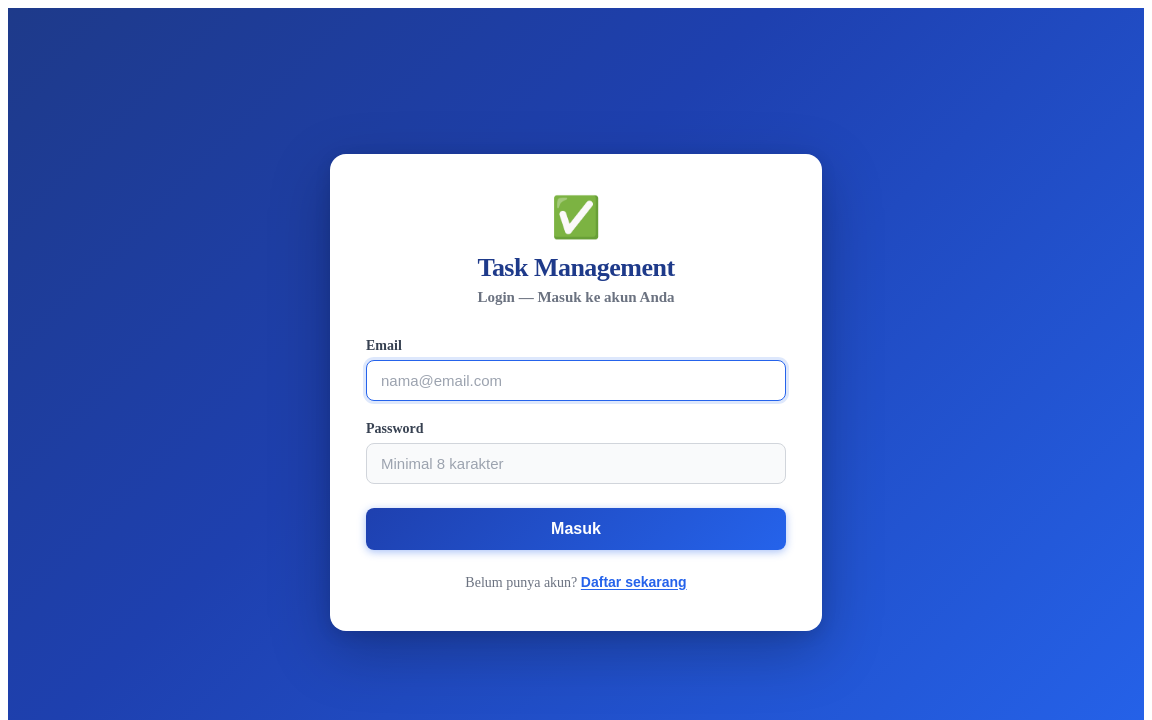
Scenario: LoginForm › error sebelumnya hilang saat submit ulang berhasil
The width and height of the screenshot is (1152, 720).
Type "a@b.com" into the field labelled "Email".
click(576, 380); type("a@b.com")  # box [366,360,786,400]
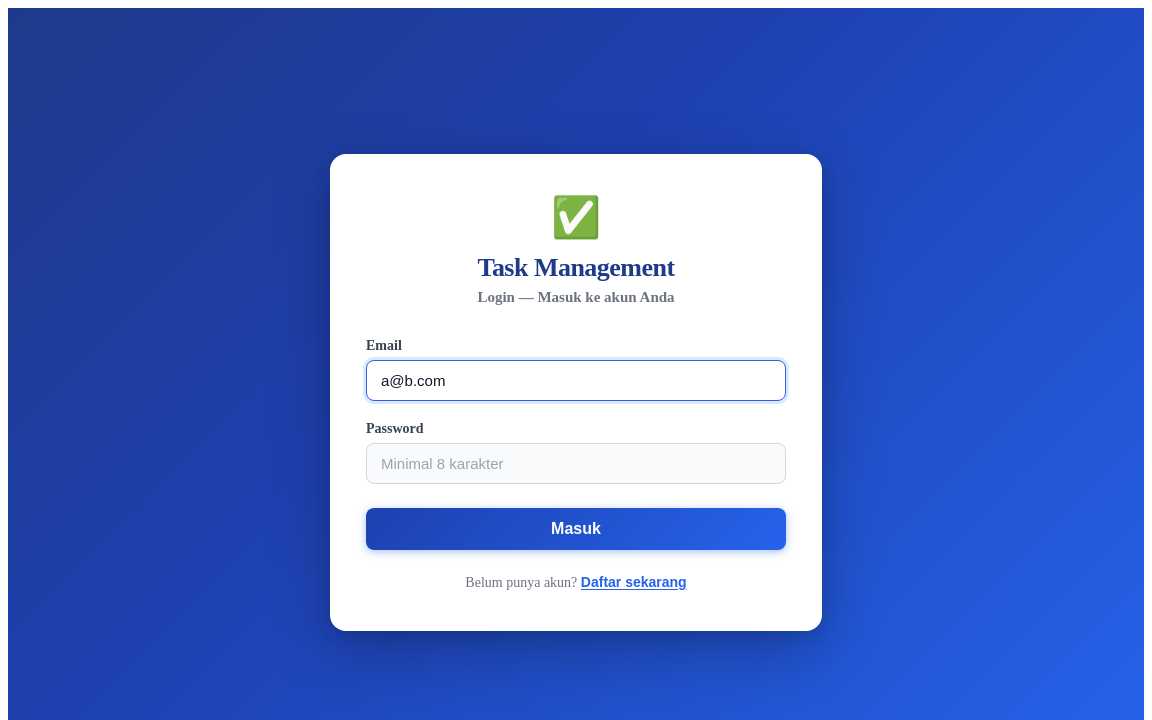
Type "pass1234" into the password field labelled "Password".
click(576, 463); type("pass1234")  # box [366,442,786,484]
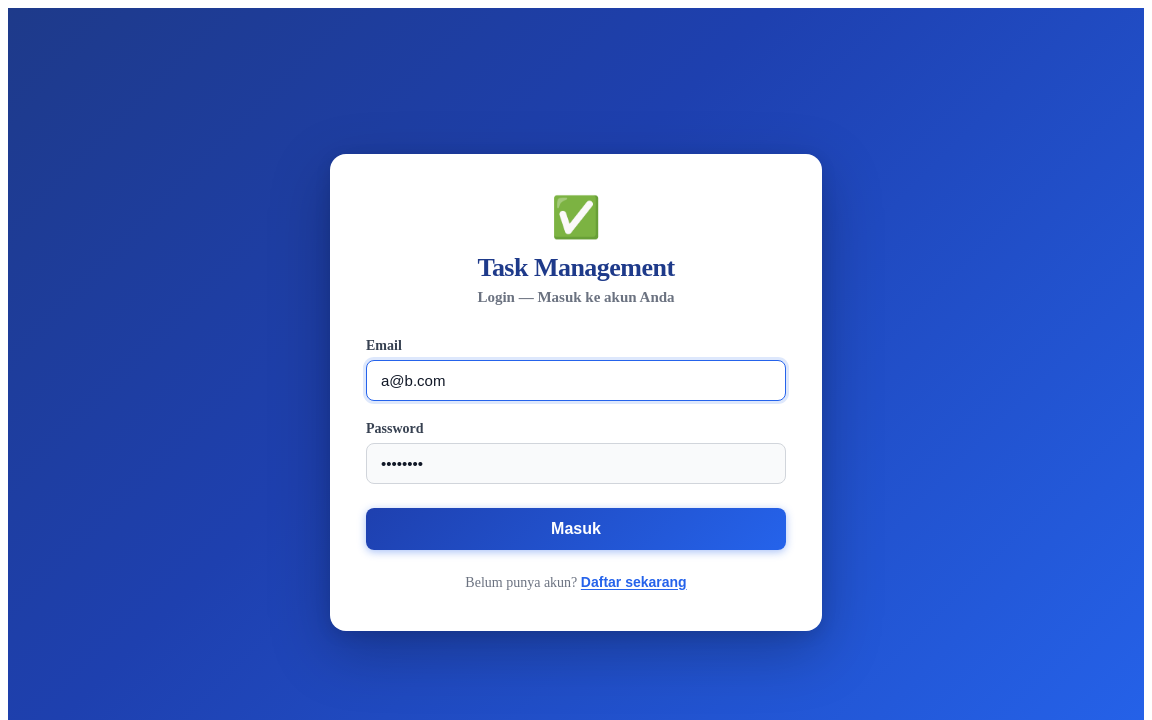
Click the button "Masuk".
click(576, 528)  # box [366,508,786,550]
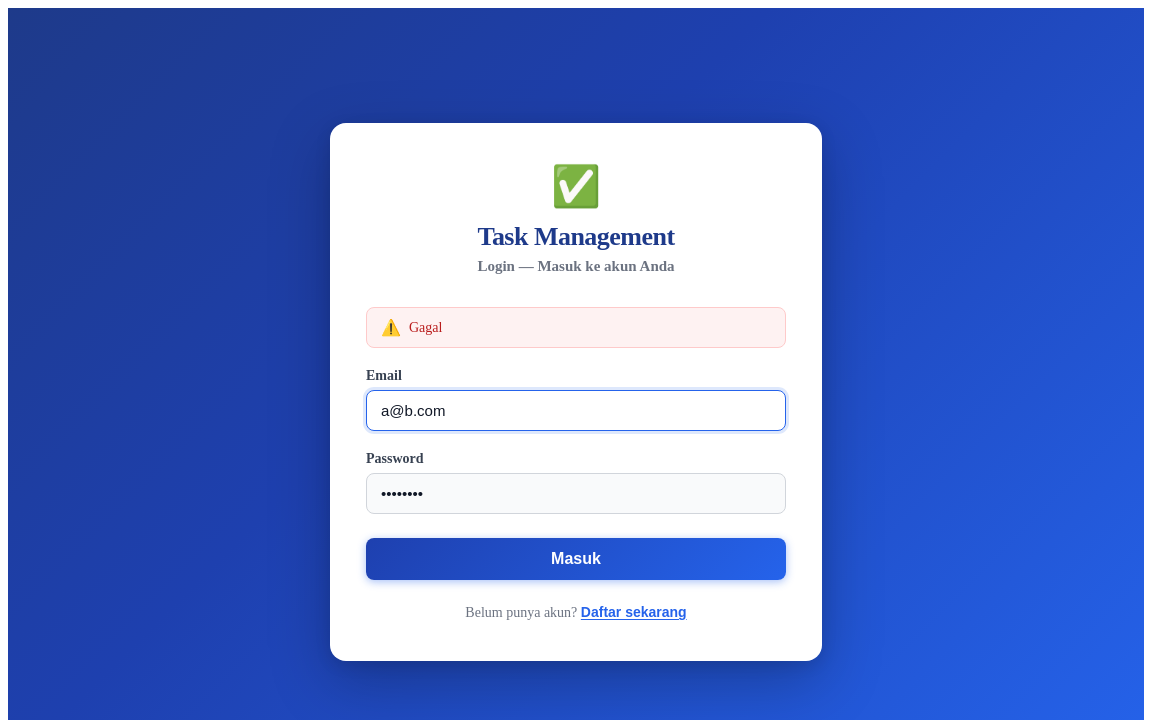
Now the message "⚠️ Gagal" is shown, box [366,307,786,348]
Click the button "Masuk".
click(576, 559)  # box [366,538,786,580]
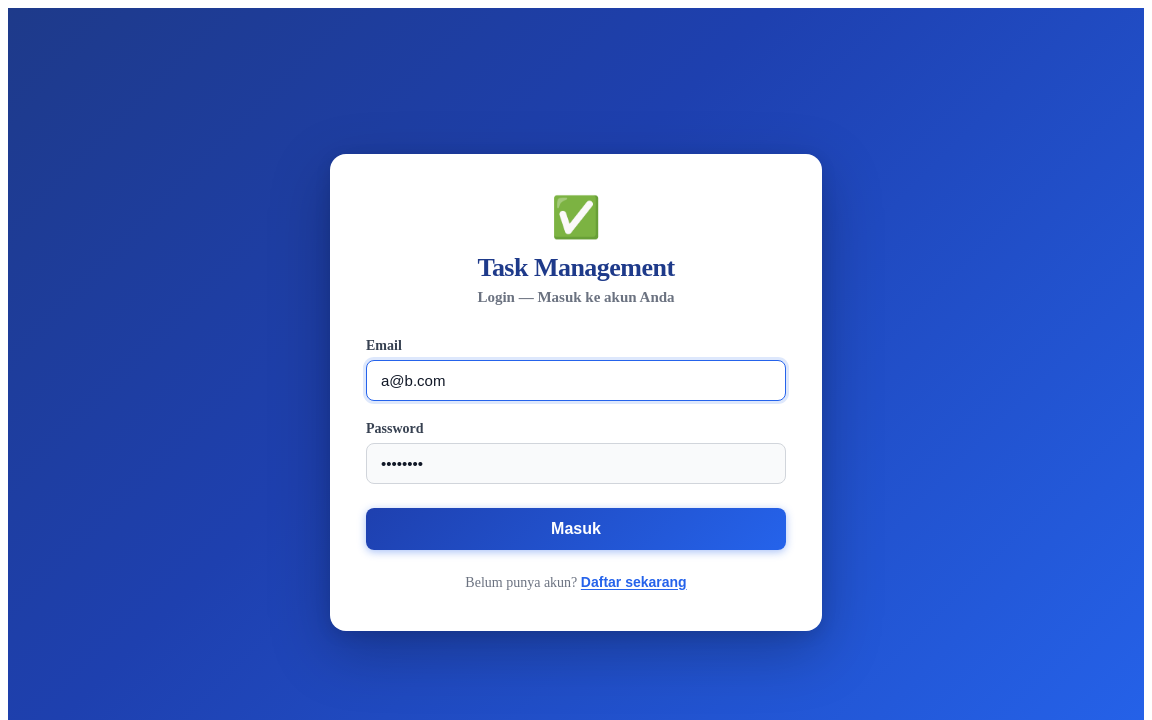
Now the message "⚠️ Gagal" is gone
